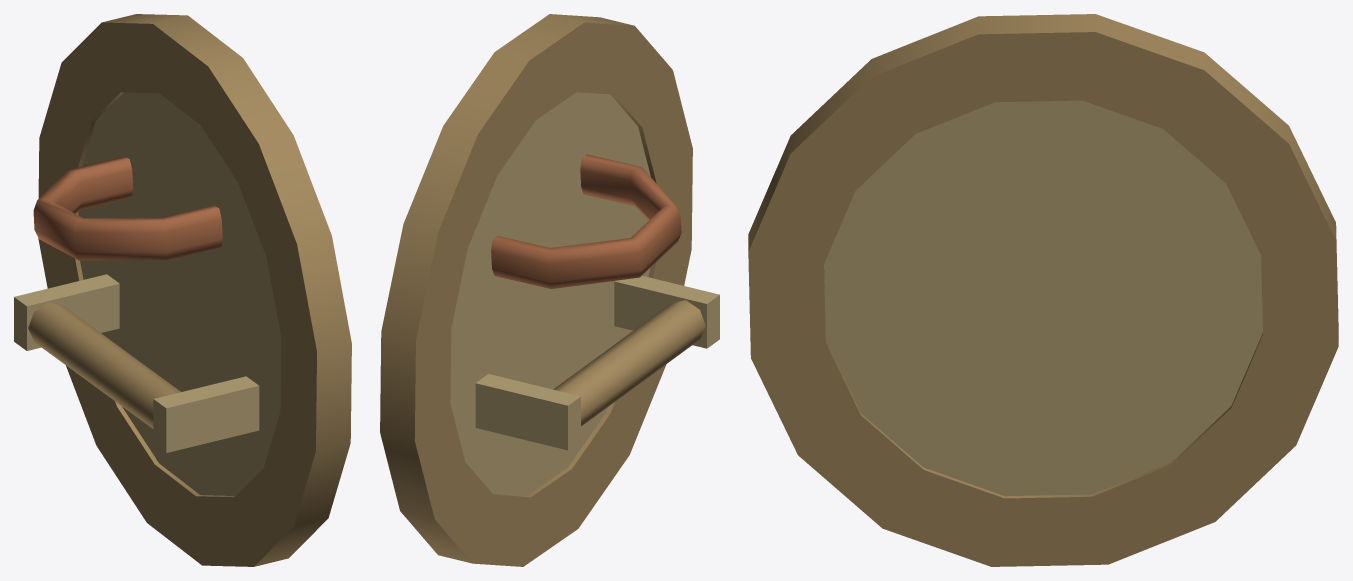
File: TeddyHD_2.0_Shield.fbx
The picture shows the model from 3 angles, left to right: view 1: azimuth 30°, elevation 25°; view 2: azimuth 150°, elevation 25°; view 3: azimuth 270°, elevation 25°; orthographic projection. The views are drawn at different scales.
Visible parts, largest first — view 1: Shield; view 2: Shield; view 3: Shield.
Part boxes in pixels (x1,y1,x2,y2): Shield: (14,14,351,566); Shield: (380,14,719,566); Shield: (748,14,1338,566).
Bounding box in the file's own units: 33.74 × 108 × 108.
